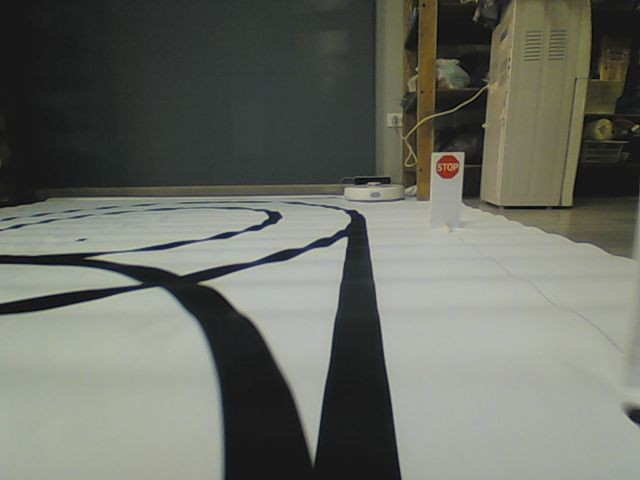Stop: (433, 154, 460, 180)
